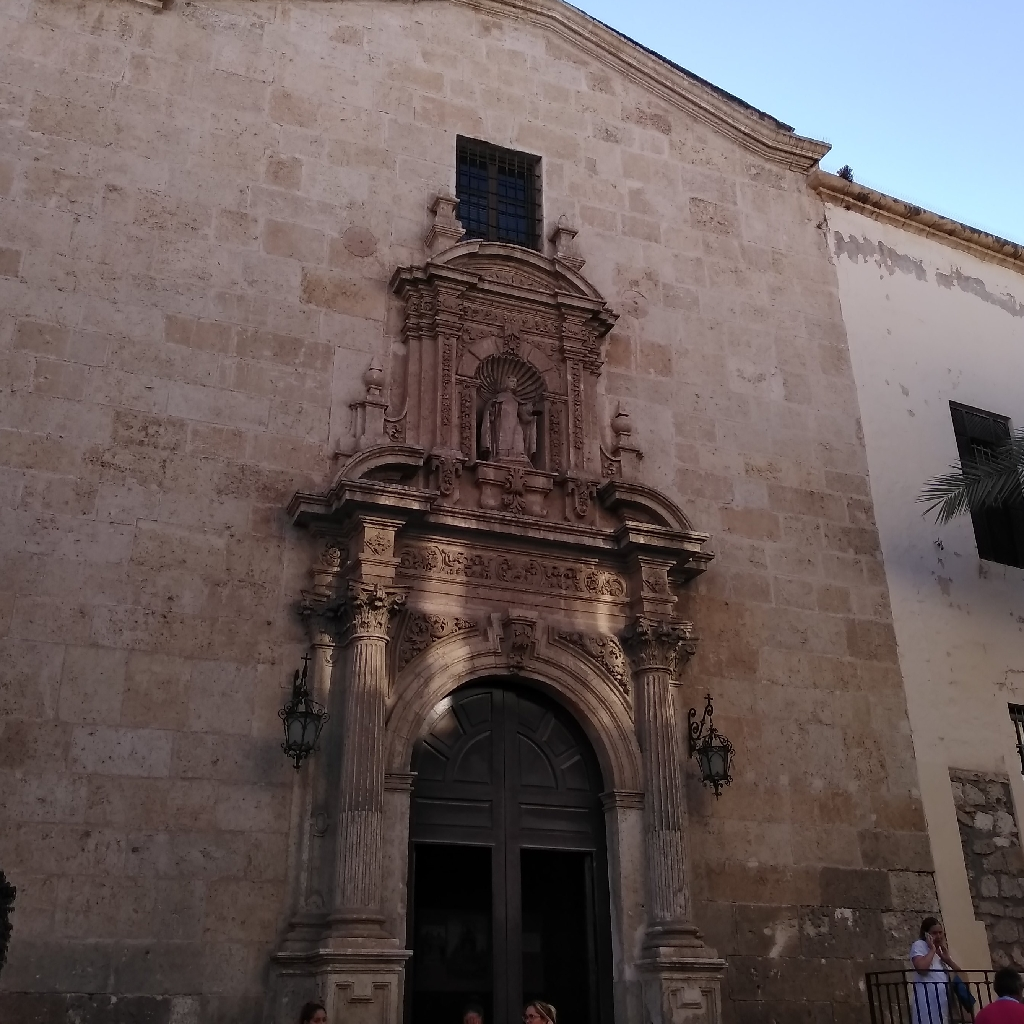arco-medio-punto: (402, 660, 634, 822)
fronton-curvo: (421, 236, 610, 307)
fronton-partido: (338, 443, 706, 542)
